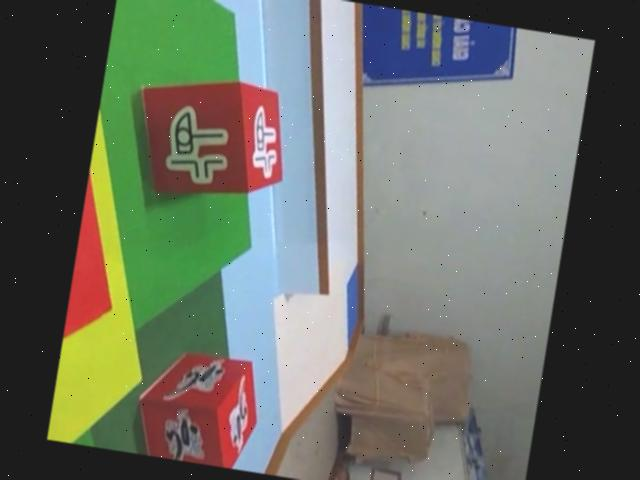R1: (127, 344, 268, 472)
R2 Real: (126, 65, 298, 212)
